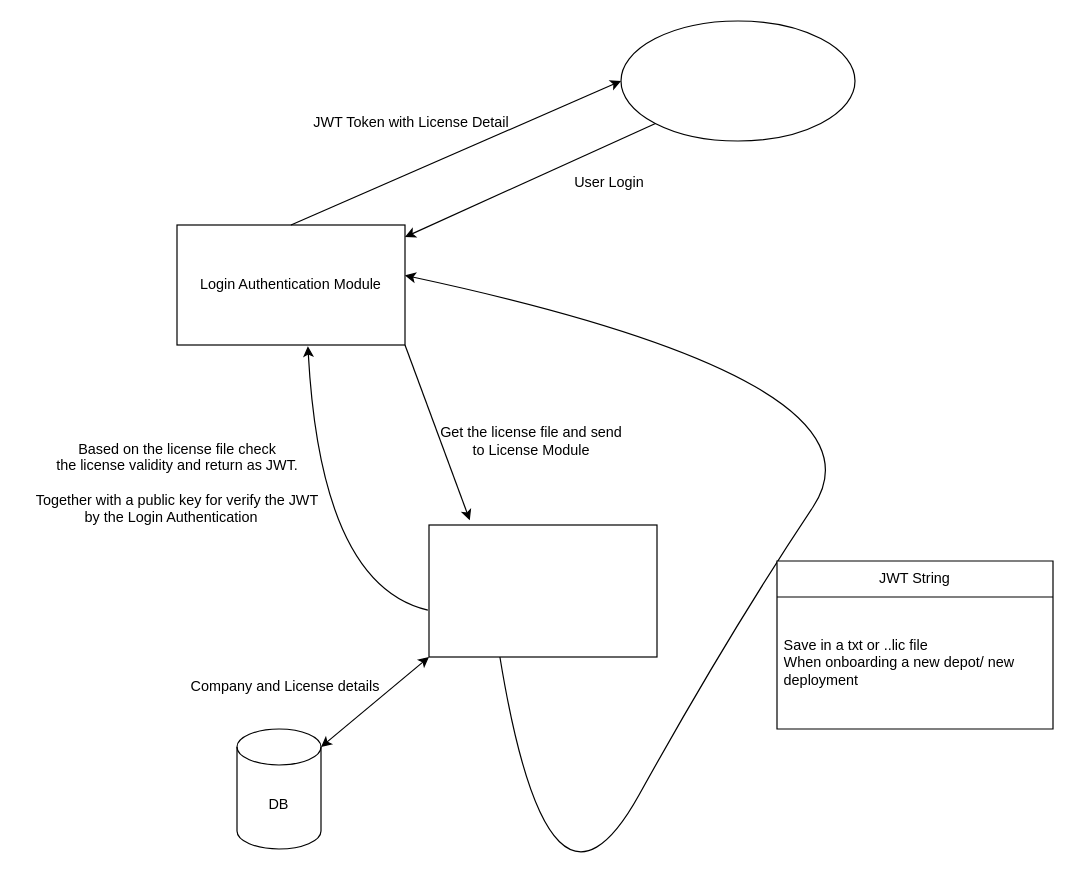
Image size: 1074x874. Some labels were removed from this diagram. Each missing label, with the centre of its shape:
"FE" belongs at (x=737, y=80).
"Licensing Authentication Module (Rest Endpoint)" belongs at (x=542, y=590).
